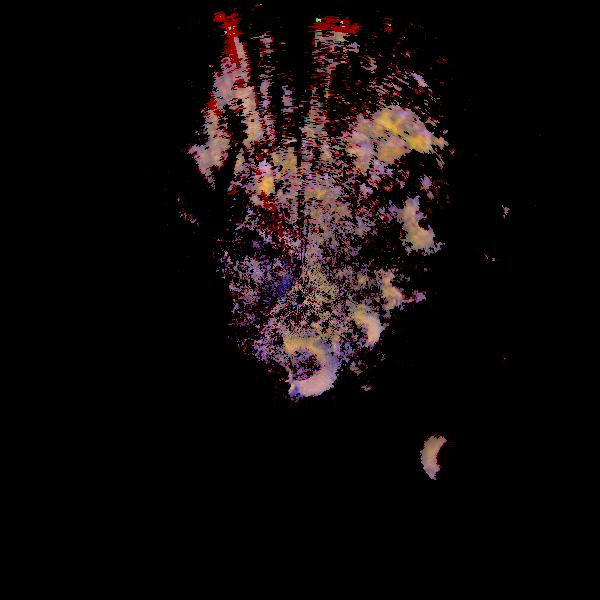roost: (397, 178, 478, 259), (267, 335, 342, 410), (413, 433, 476, 496), (374, 254, 437, 317), (334, 308, 388, 362)
